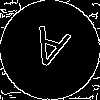A: (25, 25, 72, 79)
